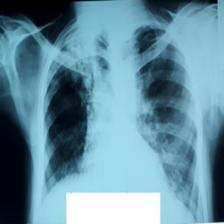tuberculosis: (32, 17, 207, 224)
